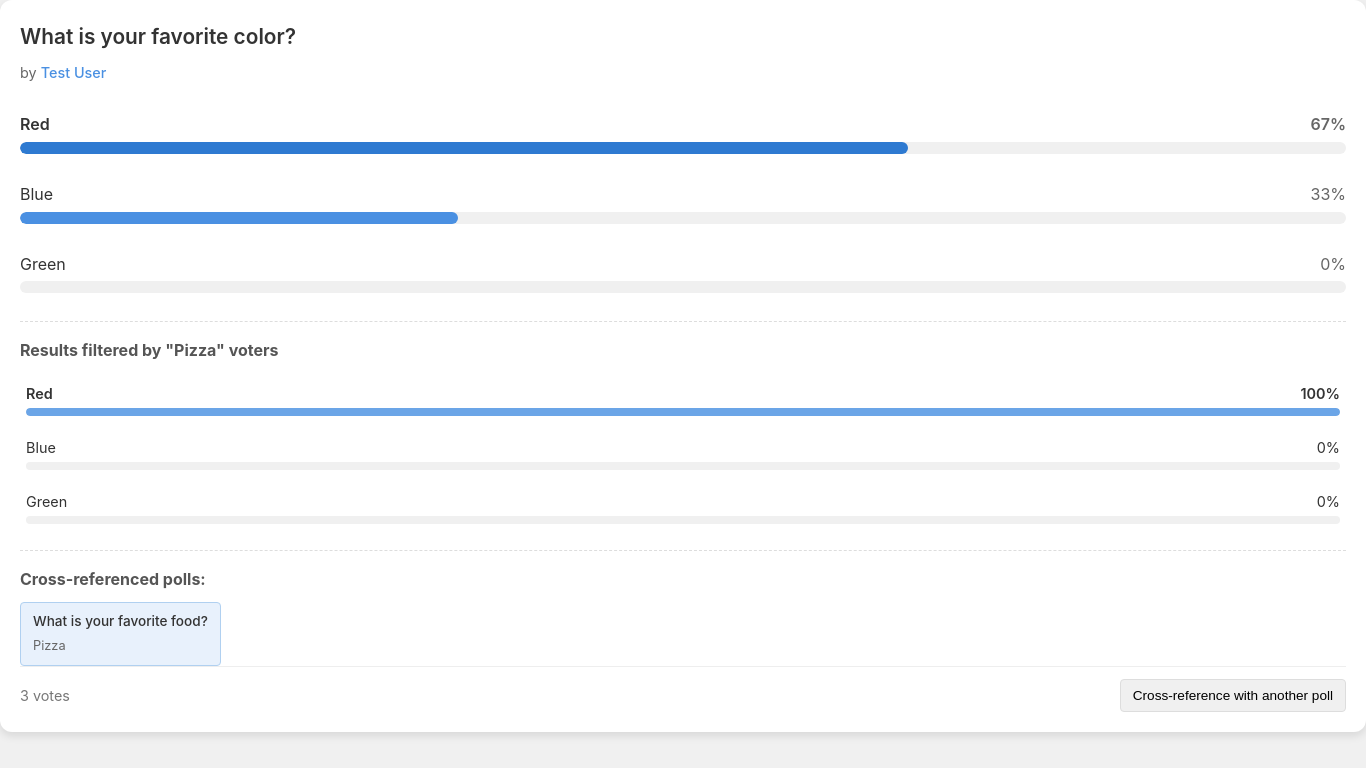
Test: PollCard Component › should update main chart when clicking on a sub-chart
Expected: the heading "Results filtered by \"Pizza\" voters" is shown, [20,340,278,360]
// Click on the first sub-chart (Red)
Click the element with class "cross-reference-sub-chart" showing "Red 100%" at (683, 412), box [20,376,1346,422]
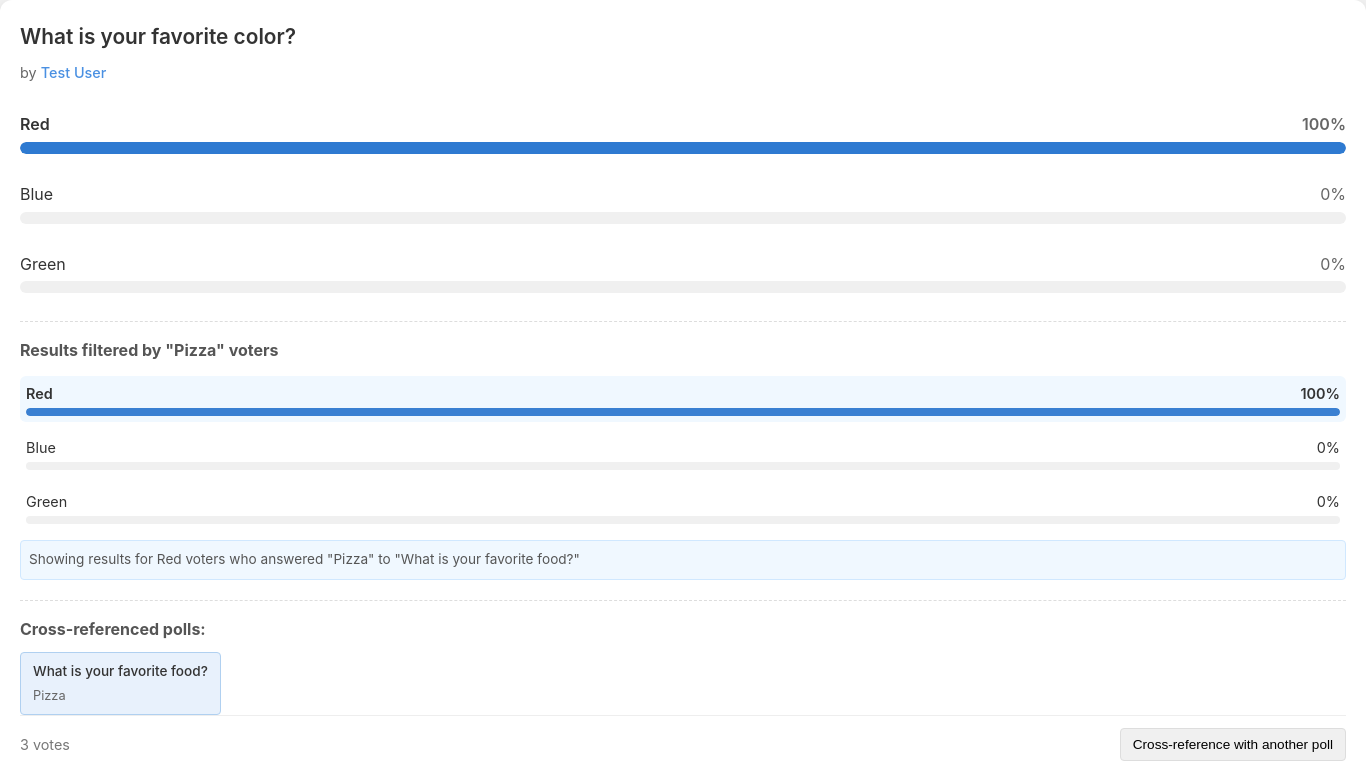
Expected: the text "Showing results for Red voters" is shown, [20,540,1346,580]
